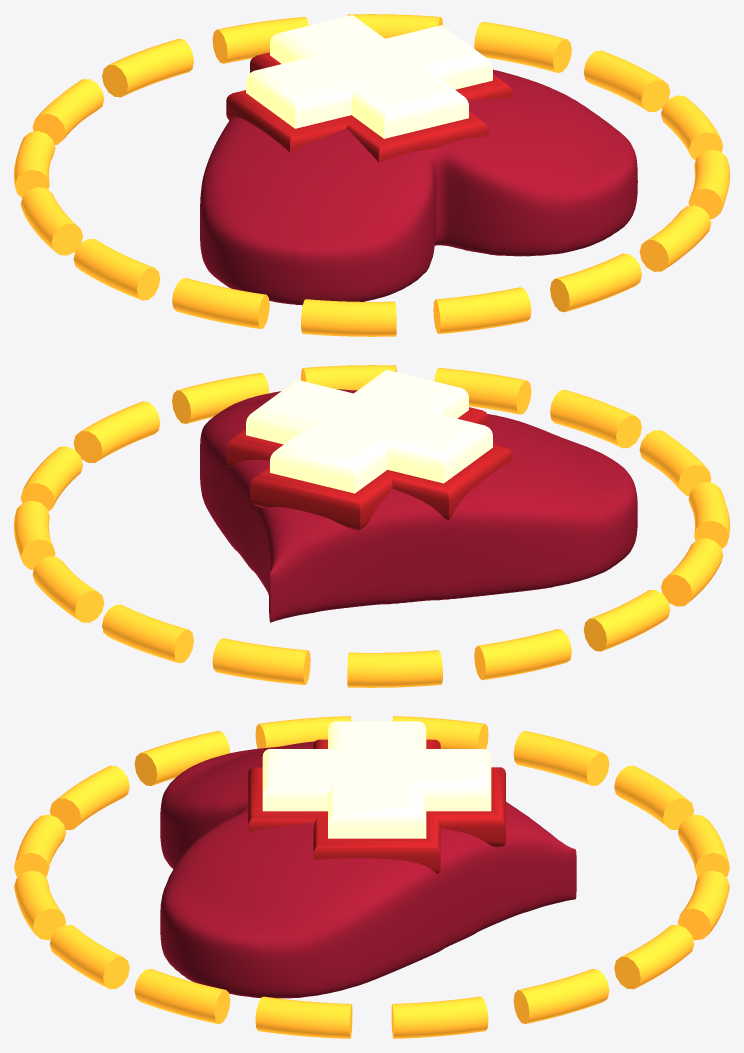
Rendered from HealthPickup.fbx.
3 views of the same model, one above another, from view 1: azimuth 30°, elevation 25°; view 2: azimuth 150°, elevation 25°; view 3: azimuth 270°, elevation 25° (orthographic).
Visible parts, largest first — view 1: HeartGroup, Ring; view 2: HeartGroup, Ring; view 3: HeartGroup, Ring.
Part boxes in pixels (x1=…): HeartGroup: x1=200, y1=15, x2=637, y2=305; Ring: x1=14, y1=14, x2=729, y2=336; HeartGroup: x1=200, y1=369, x2=637, y2=622; Ring: x1=14, y1=365, x2=729, y2=687; HeartGroup: x1=160, y1=721, x2=576, y2=998; Ring: x1=14, y1=716, x2=729, y2=1038.
Size of the model in its own units: 1.43 by 0.3074 by 1.43.
